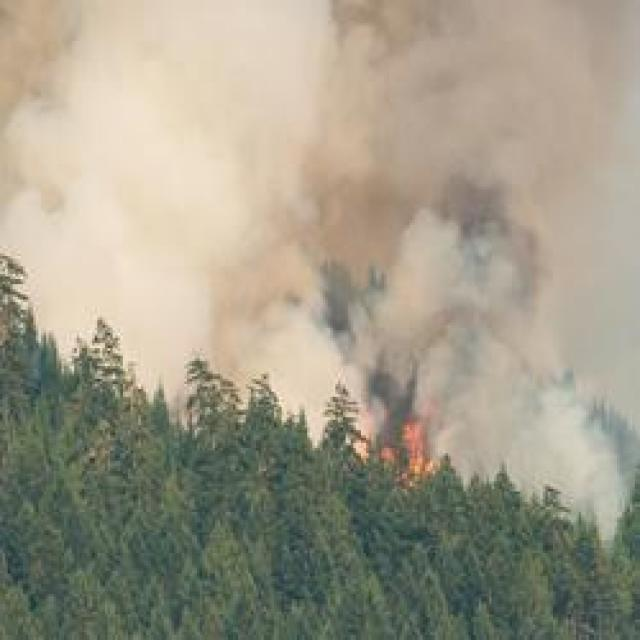smoke: (170, 18, 365, 335), (374, 35, 599, 302), (11, 110, 207, 364), (450, 314, 623, 466), (271, 290, 380, 432)
